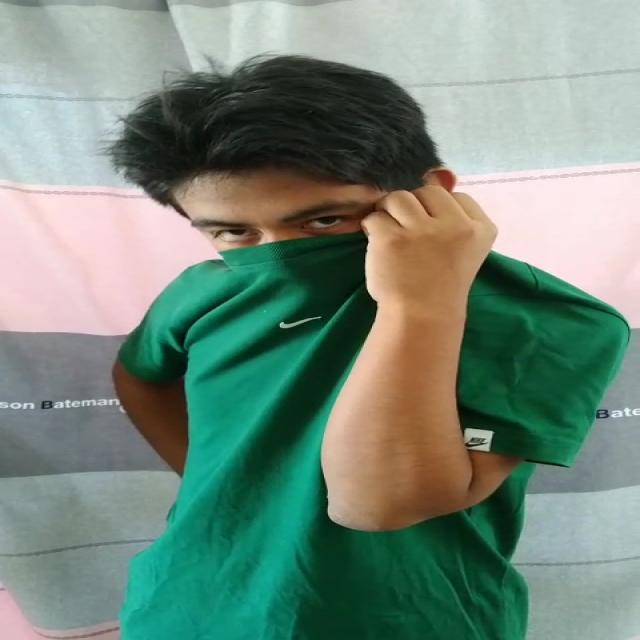8_ropa_rostro: (218, 224, 469, 332)
